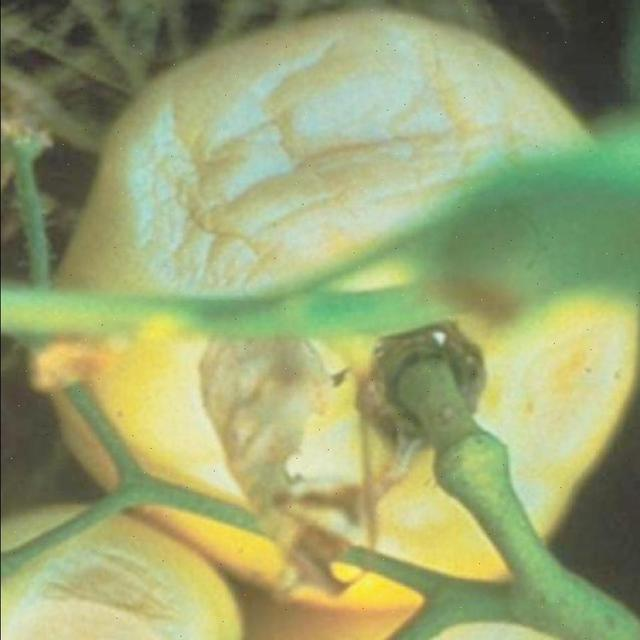Sunscald Fruit: (68, 17, 386, 243)
